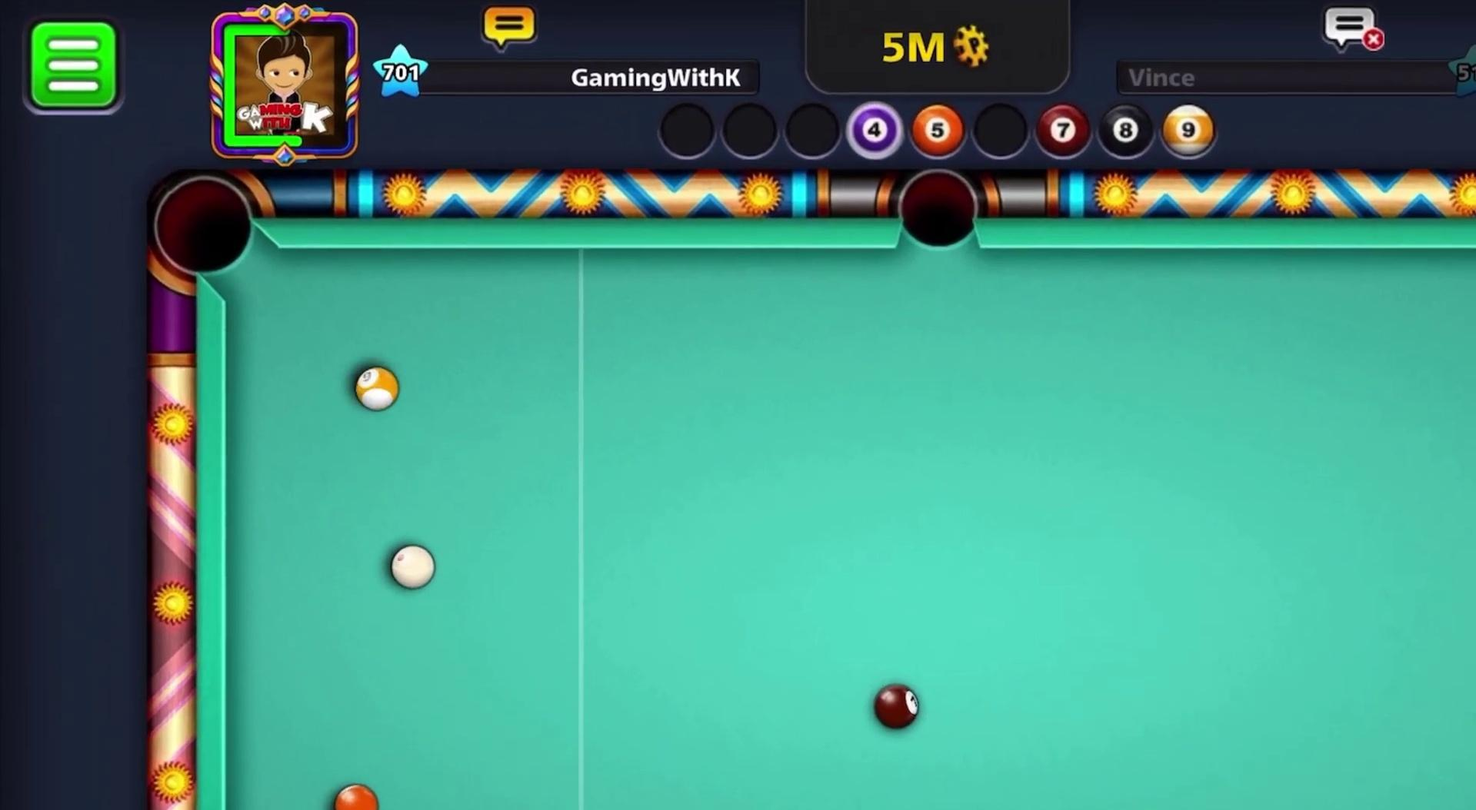Ball: (348, 359, 404, 426), (867, 681, 928, 733)
Hole: (138, 158, 289, 307), (893, 160, 985, 258)
White: (381, 538, 441, 595)
